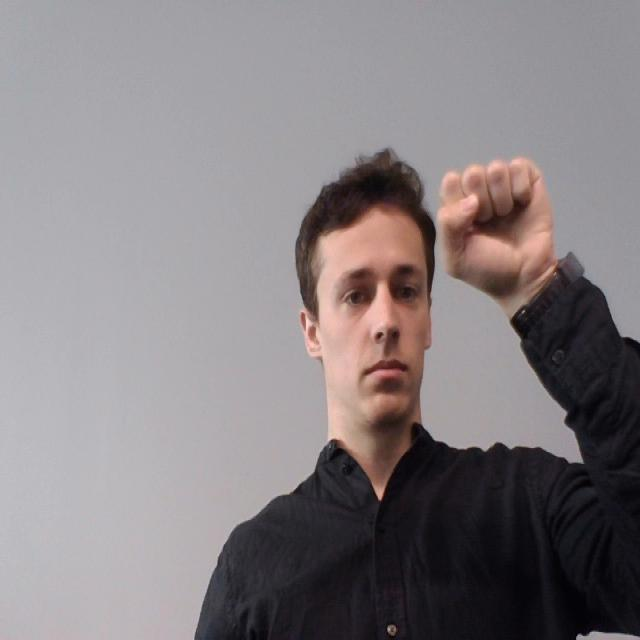stop: (434, 159, 562, 307)
